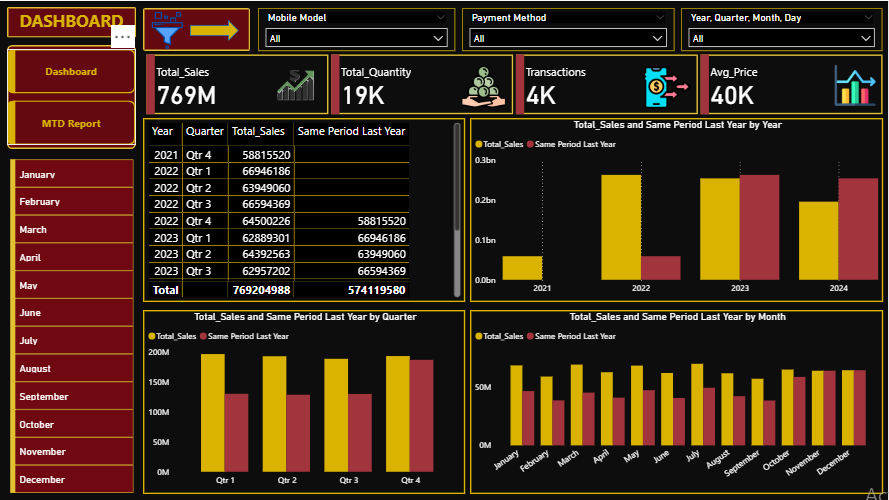

Layout of this report page (visuals, bound fields, positions):
{"tool":"powerbi","page":{"name":"Same Period Last Year","canvas":[1280,720],"ordinal":2},"visuals":[{"type":"shape","box":[9.6,8.3,185.8,44],"z":0},{"type":"shape","box":[10.1,63.4,185.8,149.8],"z":1000},{"type":"cardVisual","fields":{"Data":["Mobile_sales_data.Total_Sales","Mobile_sales_data.Total_Quantity","Mobile_sales_data.Transactions","Mobile_sales_data.Avg_Price"]},"box":[206.5,71.6,1073.5,96.3],"z":2000},{"type":"slicer","fields":{"Values":["Mobile_sales_data.Mobile Model"]},"box":[371.6,9.6,283.5,61.9],"z":3000},{"type":"slicer","fields":{"Values":["Mobile_sales_data.Payment Method"]},"box":[664.8,9.6,305.5,61.9],"z":4000},{"type":"slicer","fields":{"Values":["Custom_calendar.Date.Variation.Date Hierarchy.Year","Custom_calendar.Date.Variation.Date Hierarchy.Quarter","Custom_calendar.Date.Variation.Date Hierarchy.Month","Custom_calendar.Date.Variation.Date Hierarchy.Day"]},"box":[980,9.6,290.4,61.9],"z":5000},{"type":"shape","box":[206.5,9.6,154.2,61.9],"z":6000},{"type":"image","box":[196.8,9.6,86.7,64.7],"z":7000},{"type":"shape","box":[273.9,27.5,70.2,30.3],"z":8000},{"type":"textbox","box":[23.4,5.5,159.7,48.2],"z":9000},{"type":"advancedSlicerVisual","fields":{"Values":["Custom_calendar.Date.Variation.Date Hierarchy.Month"]},"box":[10.1,223.2,187.2,496.8],"z":10000},{"type":"tableEx","fields":{"Values":["Custom_calendar.Date.Variation.Date Hierarchy.Year","Custom_calendar.Date.Variation.Date Hierarchy.Quarter","Mobile_sales_data.Total_Sales","Mobile_sales_data.Same Period Last Year"]},"box":[205.9,168.5,463.7,265],"z":11000},{"type":"clusteredColumnChart","fields":{"Category":["Custom_calendar.Date.Variation.Date Hierarchy.Year"],"Y":["Mobile_sales_data.Total_Sales","Mobile_sales_data.Same Period Last Year"]},"box":[676.8,168.5,594.7,265],"z":12000},{"type":"clusteredColumnChart","fields":{"Y":["Mobile_sales_data.Total_Sales","Mobile_sales_data.Same Period Last Year"],"Category":["Custom_calendar.Date.Variation.Date Hierarchy.Month"]},"box":[676.8,445,594.7,265],"z":13000},{"type":"clusteredColumnChart","fields":{"Category":["Custom_calendar.Date.Variation.Date Hierarchy.Quarter"],"Y":["Mobile_sales_data.Total_Sales","Mobile_sales_data.Same Period Last Year"]},"box":[205.9,445,463.7,265],"z":14000},{"type":"pageNavigator","box":[10.1,69.1,185.8,138.2],"z":15000}]}

Visuals, with their boxes in screenshot pixels (x1, y1, x2, y2), scaled from the page's 1280x720 canvas onto the 889x500 screenshot:
shape: [7, 6, 136, 36]
shape: [7, 44, 136, 148]
cardVisual - Mobile_sales_data.Total_Sales x Mobile_sales_data.Total_Quantity: [143, 50, 888, 117]
slicer - Mobile_sales_data.Mobile Model: [258, 7, 455, 50]
slicer - Mobile_sales_data.Payment Method: [462, 7, 674, 50]
slicer - Custom_calendar.Date.Variation.Date Hierarchy.Year x Custom_calendar.Date.Variation.Date Hierarchy.Quarter: [681, 7, 882, 50]
shape: [143, 7, 251, 50]
image: [137, 7, 197, 52]
shape: [190, 19, 239, 40]
textbox: [16, 4, 127, 37]
advancedSlicerVisual - Custom_calendar.Date.Variation.Date Hierarchy.Month: [7, 155, 137, 499]
tableEx - Custom_calendar.Date.Variation.Date Hierarchy.Year x Custom_calendar.Date.Variation.Date Hierarchy.Quarter: [143, 117, 465, 301]
clusteredColumnChart - Custom_calendar.Date.Variation.Date Hierarchy.Year x Mobile_sales_data.Total_Sales: [470, 117, 883, 301]
clusteredColumnChart - Mobile_sales_data.Total_Sales x Mobile_sales_data.Same Period Last Year: [470, 309, 883, 493]
clusteredColumnChart - Custom_calendar.Date.Variation.Date Hierarchy.Quarter x Mobile_sales_data.Total_Sales: [143, 309, 465, 493]
pageNavigator: [7, 48, 136, 144]
